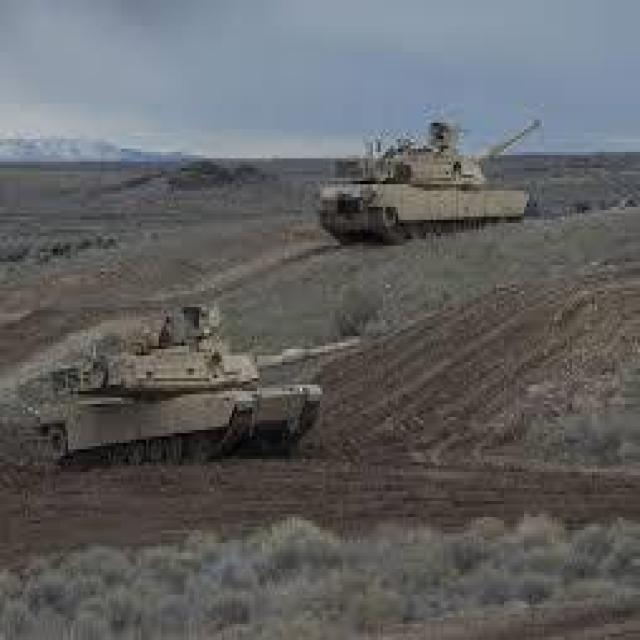Tanks: (25, 299, 348, 474), (319, 112, 548, 250)
